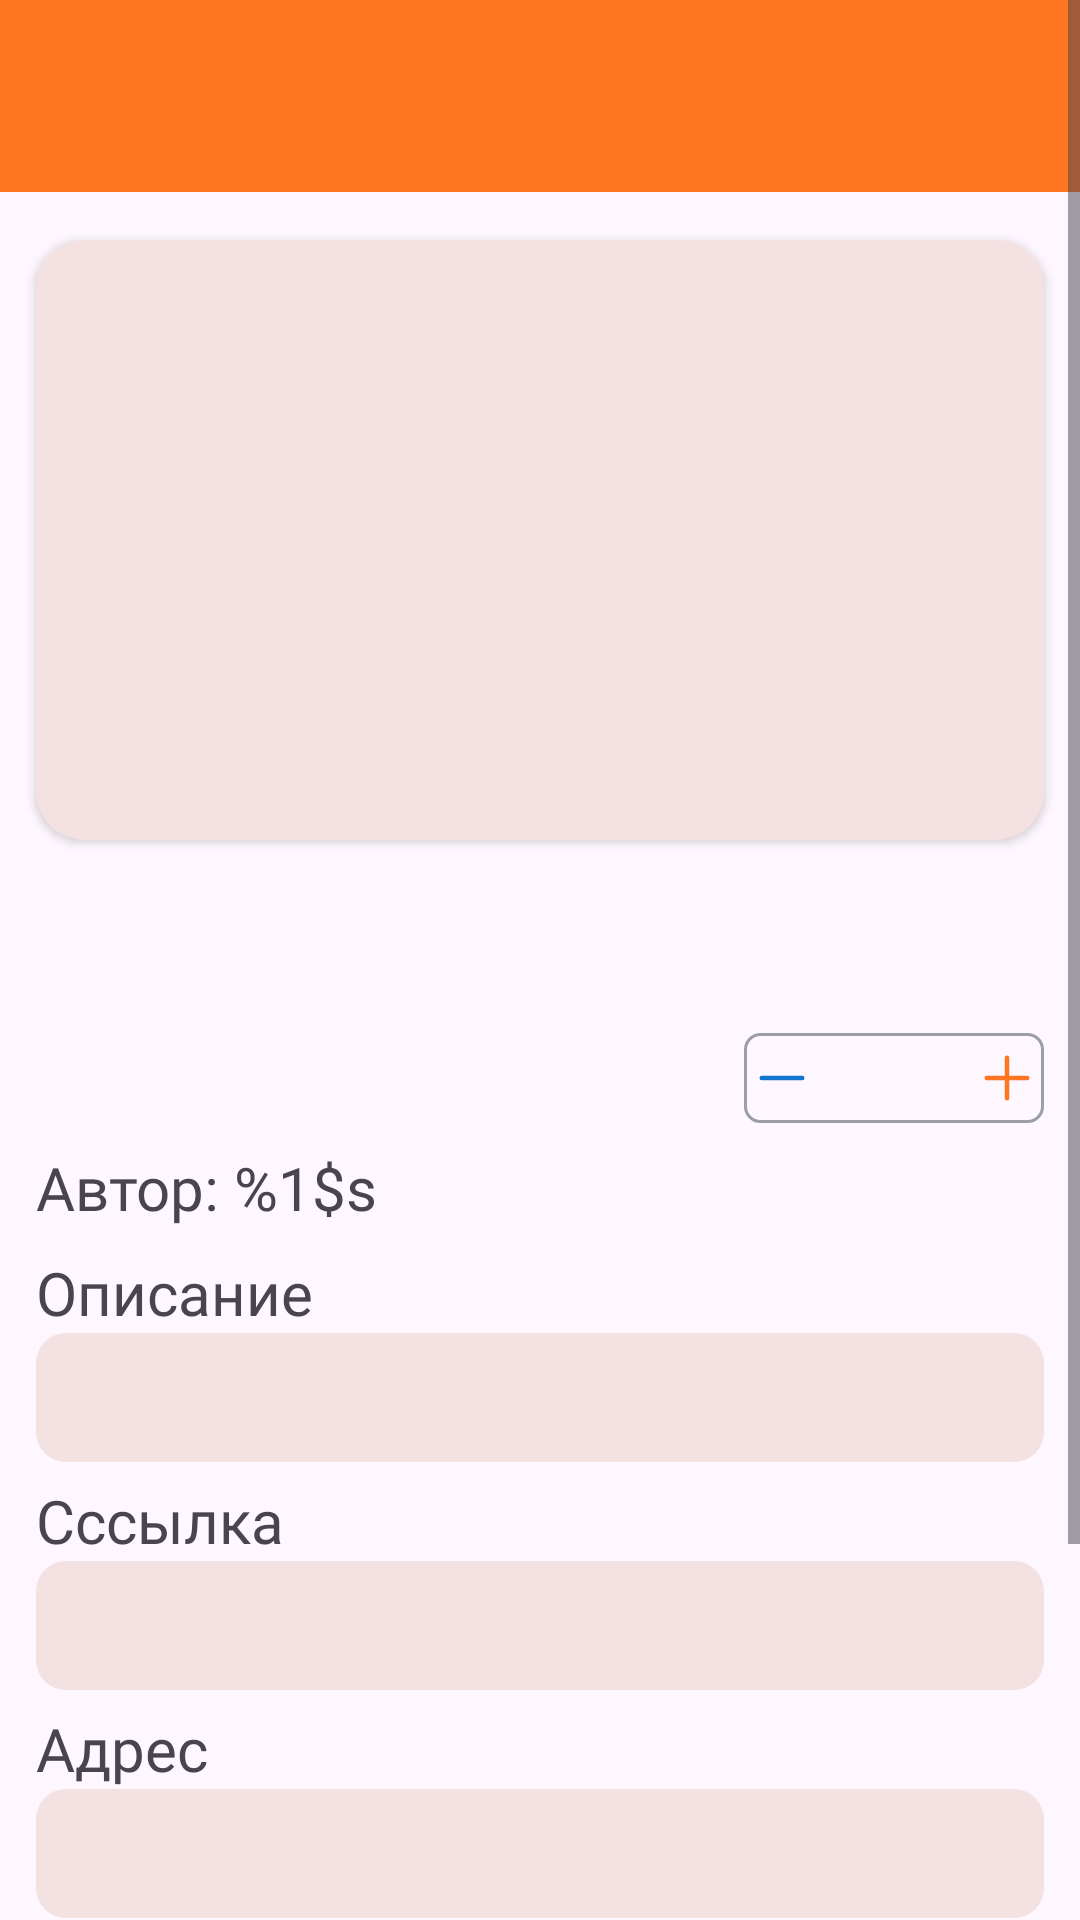

Named icons in this screenshot (1080*1920) and their bounding boxes, (x1,y1,x2,y2):
plus: (984,1055,1030,1101)
